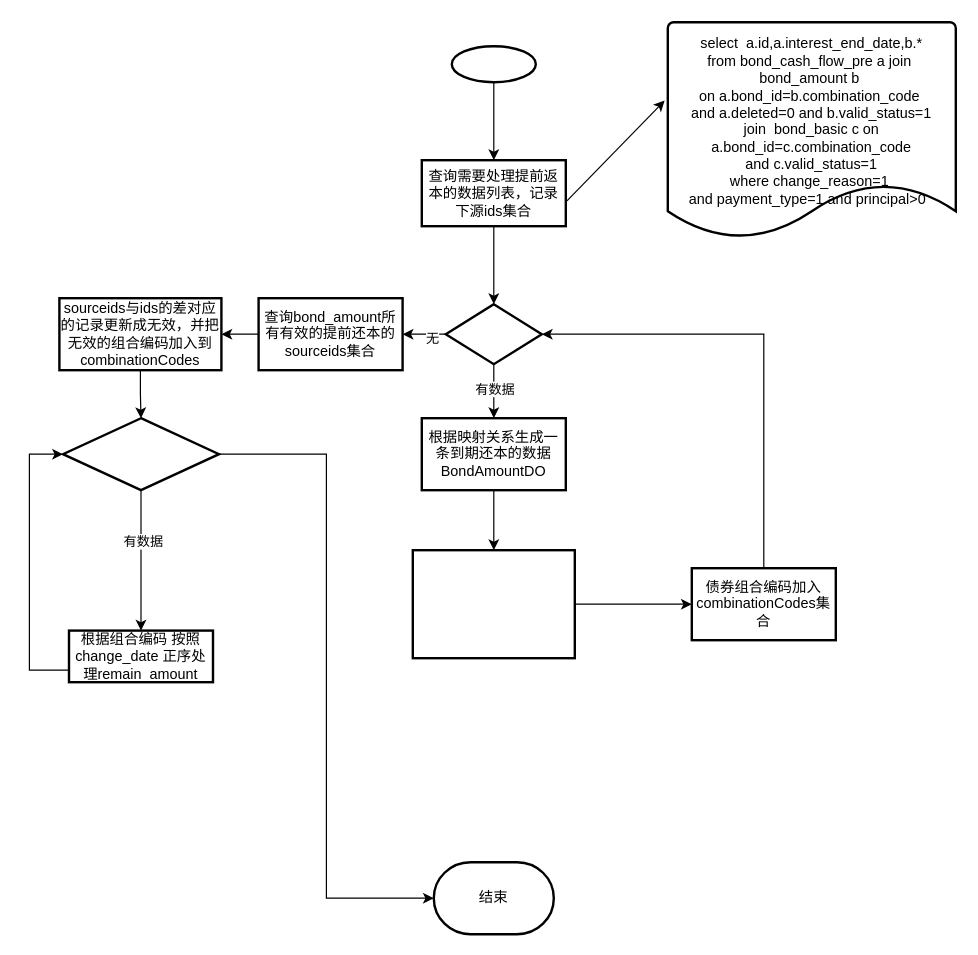
The diagram is 978 pixels wide and 955 high, and some of its shapes have lost their labels. The shapes that lost their labels are listed below. From the top down, each one's centre as x and y in pixels, then its label:
pixel 493 63: 开始
pixel 493 333: 获取一条
pixel 140 453: 从combinationCodes获 取一个组合编码
pixel 493 603: 根据业务主键(combination_code, change_date, change_reason)进行更新或者插入bond_amount
